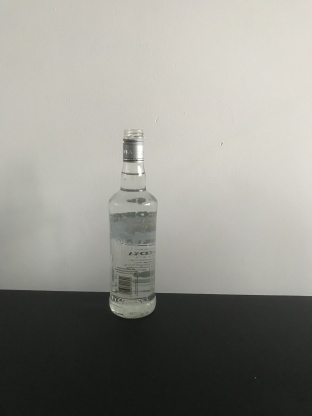nakretka: (120, 126, 145, 164)
